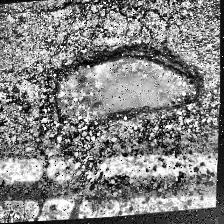pothole: (44, 37, 210, 135)
